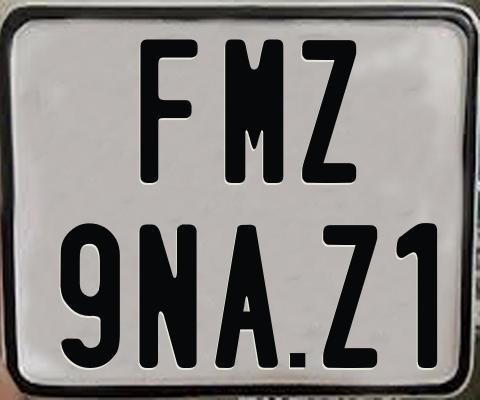1: (393, 223, 436, 370)
9: (57, 220, 122, 371)
A: (213, 225, 279, 370)
F: (140, 38, 201, 188)
M: (224, 36, 282, 184)
N: (136, 221, 199, 365)
Z: (323, 225, 382, 373), (299, 37, 359, 180)
